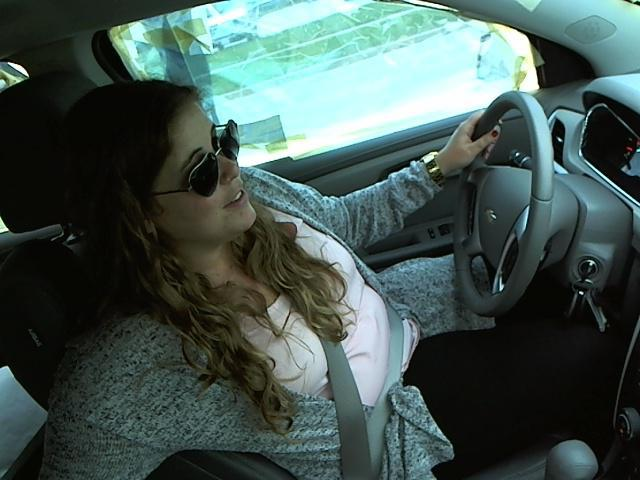c5 - Reaching Behind: (9, 48, 575, 407)
